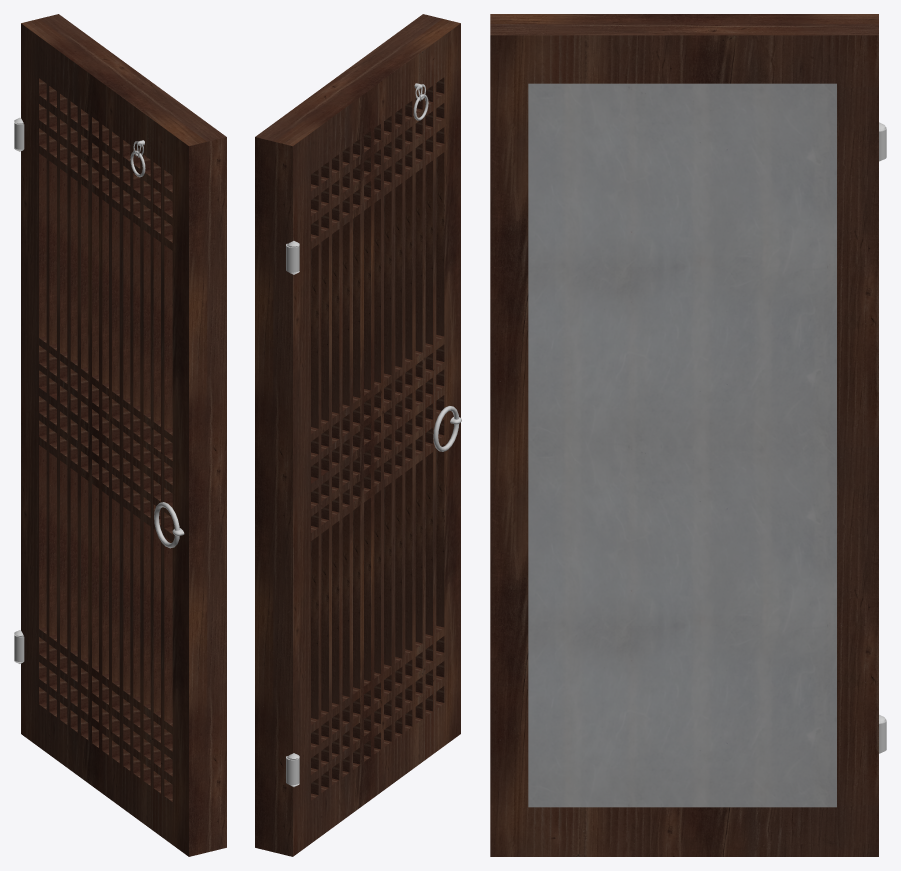
File: SM_D_Wood_10.fbx
The picture shows the model from 3 angles, left to right: view 1: azimuth 30°, elevation 25°; view 2: azimuth 150°, elevation 25°; view 3: azimuth 270°, elevation 25°; orthographic projection. The views are drawn at different scales.
Parts seen in each view (by area): view 1: SM_D_Wood_10; view 2: SM_D_Wood_10; view 3: SM_D_Wood_10.
Boxes of the visible parts, x1,y1,x2,y2 form: SM_D_Wood_10: (14,14,226,856); SM_D_Wood_10: (255,14,461,856); SM_D_Wood_10: (490,14,886,856).
Size of the model in its own units: 12.53 by 81.71 by 187.
